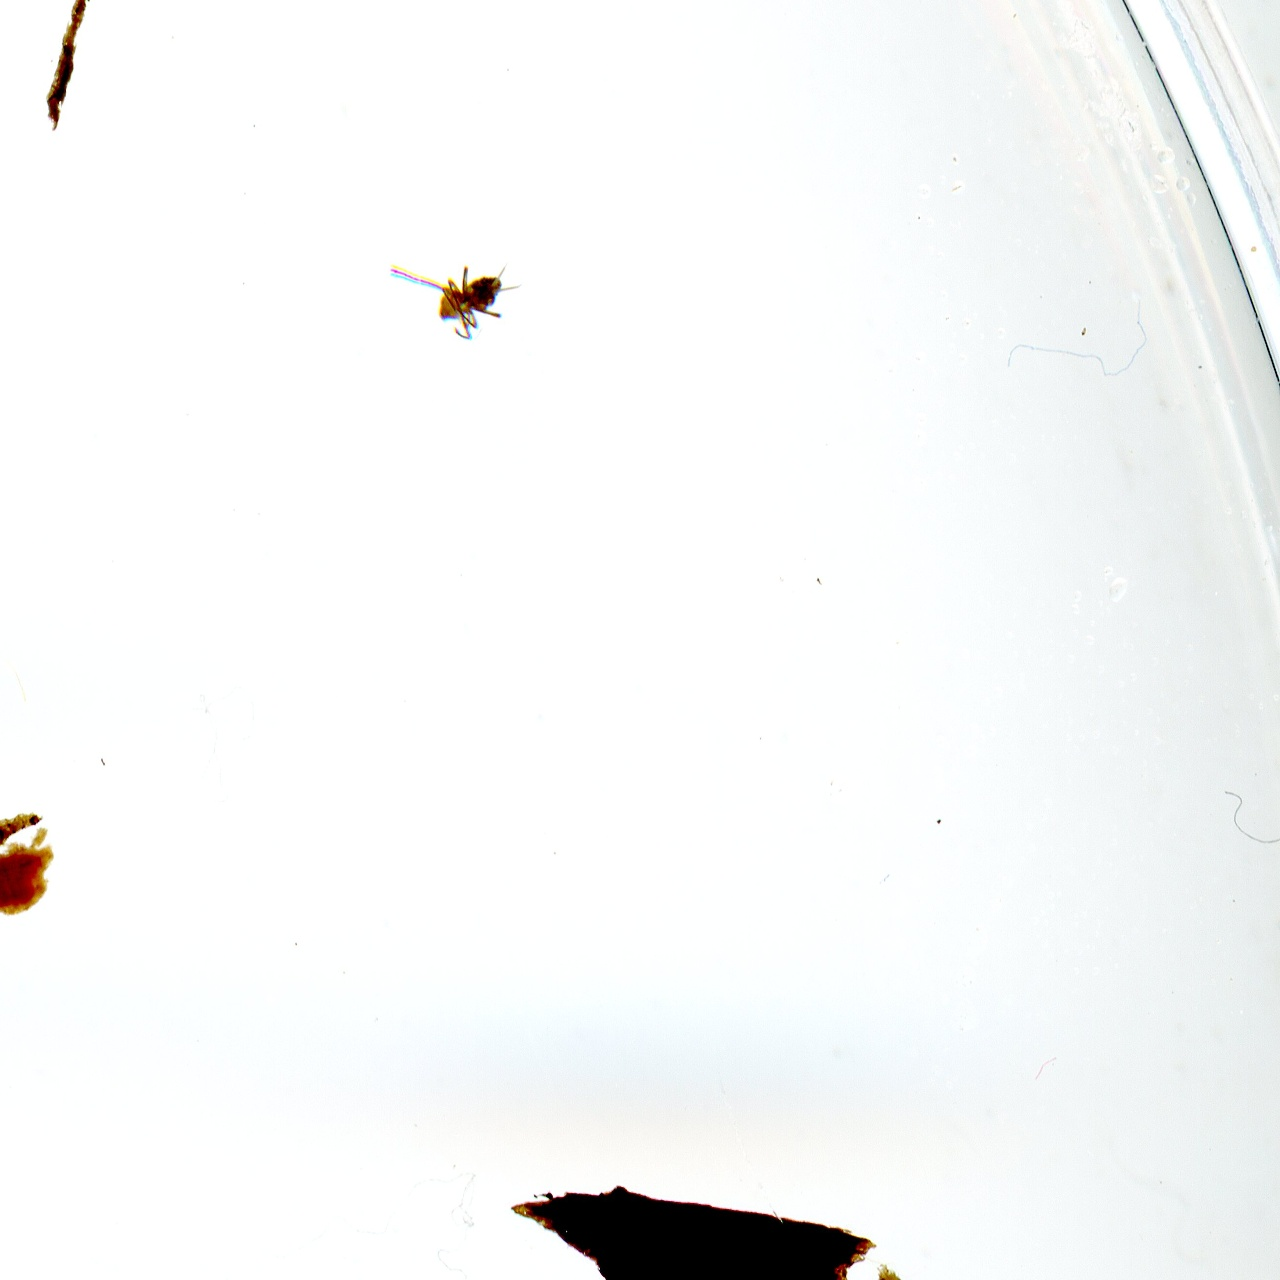arthropod: (383, 246, 523, 350)
